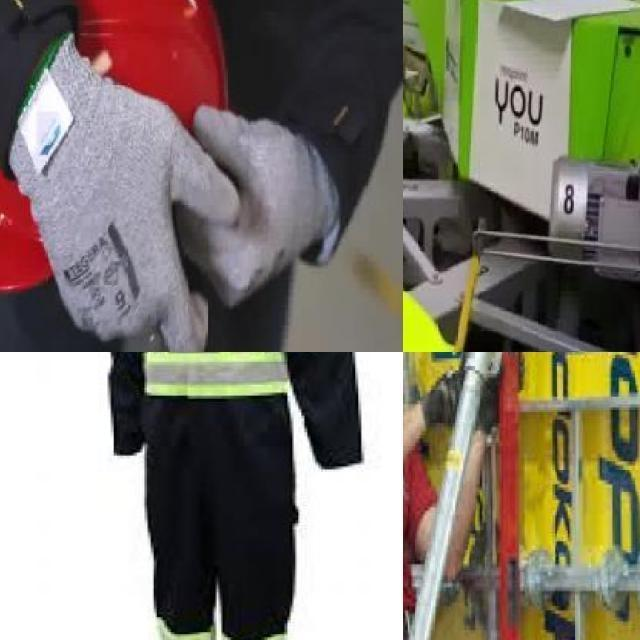apron: (9, 29, 243, 352), (174, 98, 340, 312)
